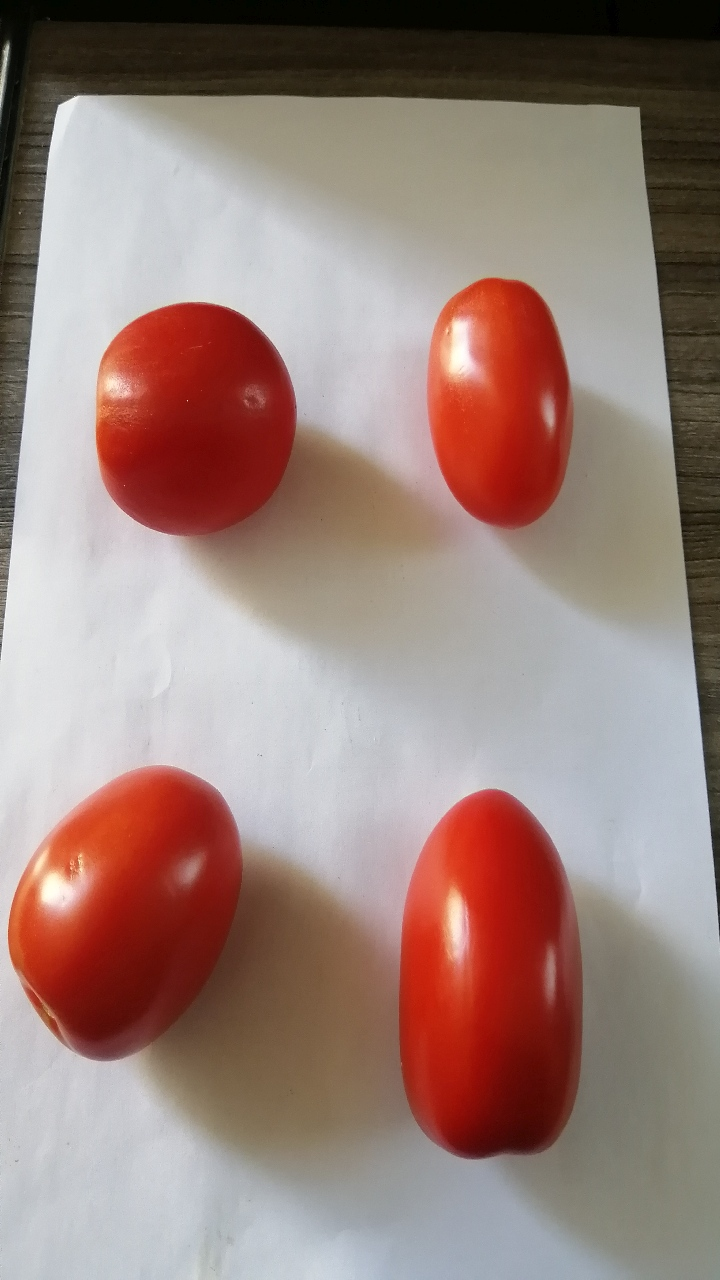tomateRojo: (381, 769, 591, 1179), (3, 742, 244, 1082), (409, 242, 611, 563), (78, 277, 301, 560)
